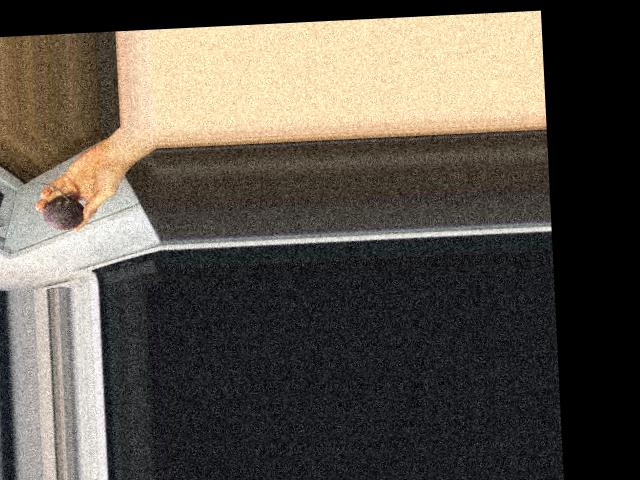beet: (36, 179, 84, 231)
